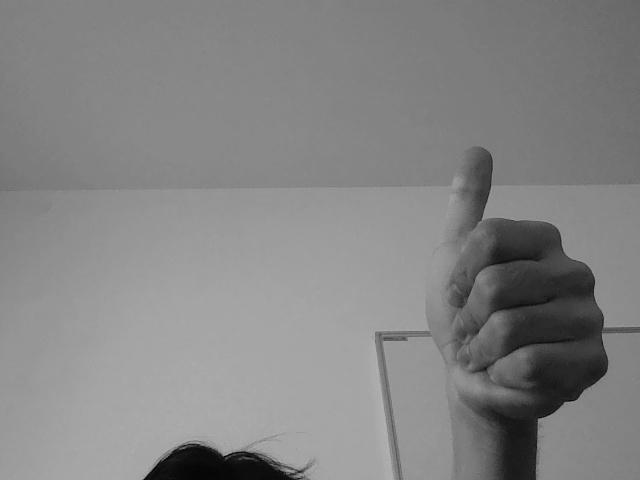good: (411, 131, 619, 411)
